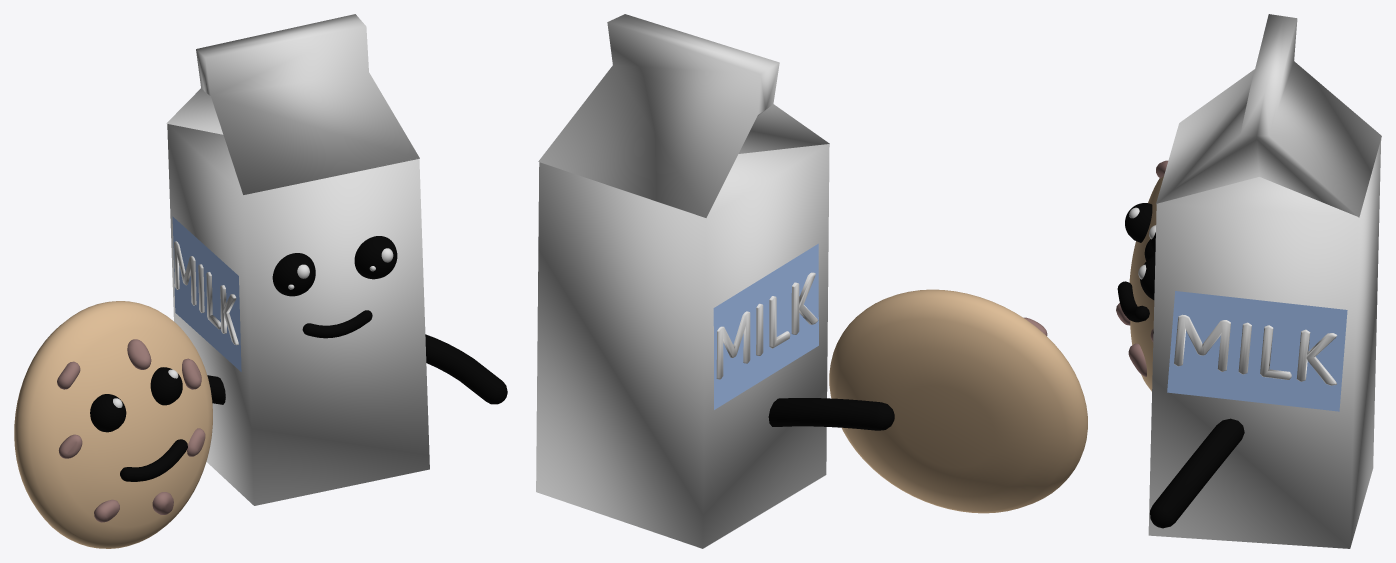
File: milk.glb
3 views of the same model, side by side, from view 1: azimuth 30°, elevation 25°; view 2: azimuth 150°, elevation 25°; view 3: azimuth 270°, elevation 25° (orthographic). The views are drawn at different scales.
Visible parts, largest first — view 1: milk; view 2: milk; view 3: milk.
Part boxes in pixels (x1,y1,x2,y2): milk: [14, 14, 507, 548]; milk: [536, 14, 1087, 548]; milk: [1116, 14, 1381, 548].
Bounding box in the file's own units: 10.31 × 8.56 × 4.62.
